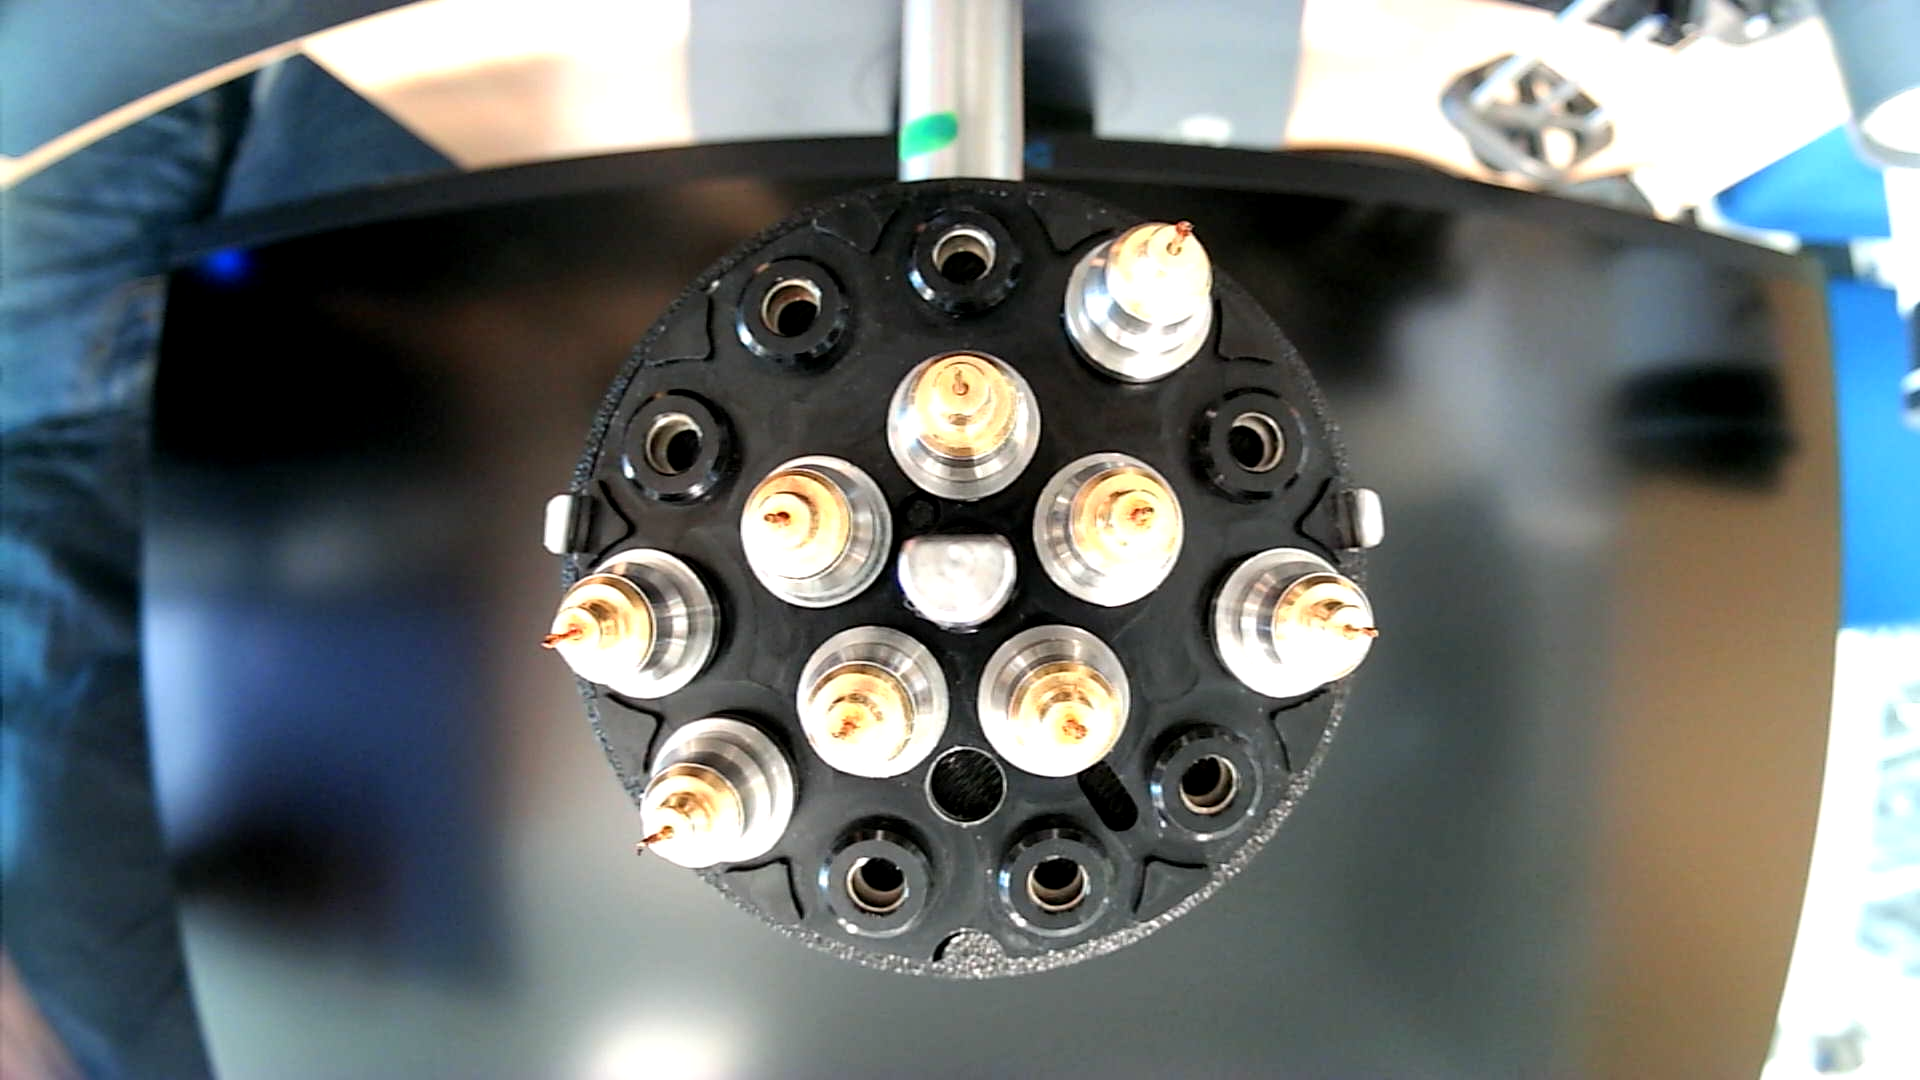empty: (615, 384, 752, 514), (812, 815, 948, 943), (901, 200, 1029, 328), (1141, 720, 1269, 847), (729, 252, 857, 377), (993, 819, 1124, 942), (1188, 386, 1315, 508)
hole: (923, 744, 1019, 832)
pin: (542, 546, 727, 700), (632, 712, 798, 874), (1209, 543, 1381, 700), (1062, 214, 1213, 386), (884, 347, 1044, 504), (794, 625, 953, 782), (738, 451, 894, 611), (975, 622, 1131, 779), (1030, 448, 1184, 607)
rod: (895, 531, 1021, 633)
